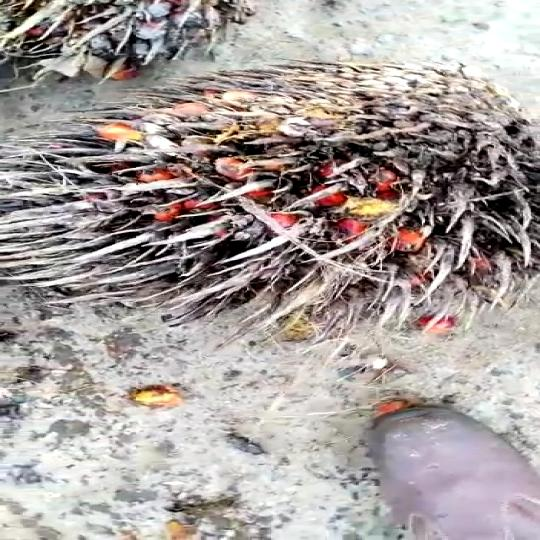terlalu masak: (0, 46, 540, 378)
